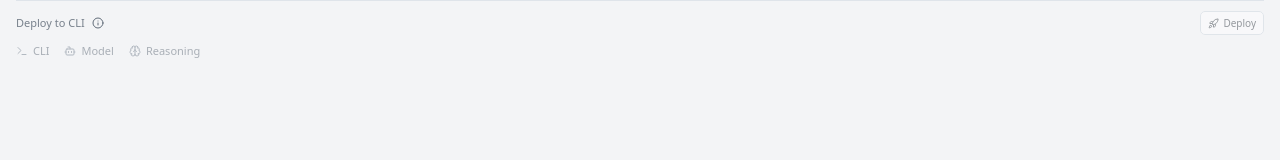
Test case: explains deployment on hover or focus without launching and dismisses on Escape
This screenshot has width=1280, height=160.
Hover over the button named "About CLI deployment" at (98, 23), box 89,14 -> 107,32
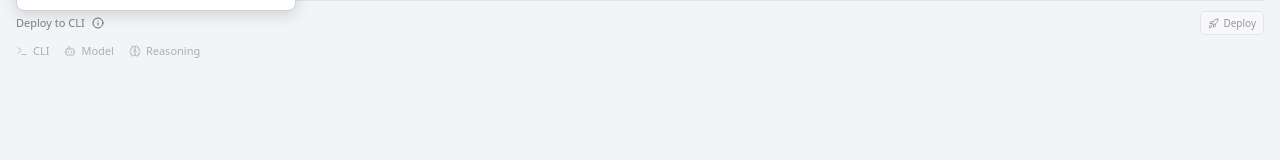
Move the pointer off the button named "About CLI deployment", box 89,14 -> 107,32
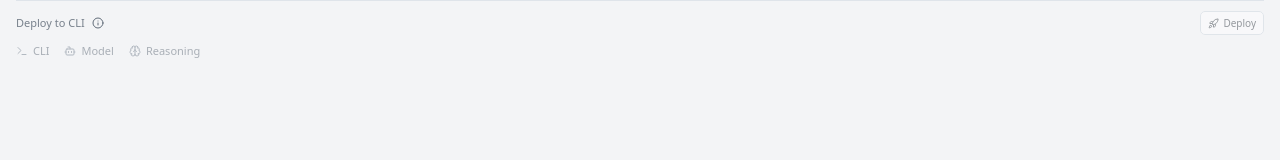
Focus the button named "About CLI deployment" at (98, 23), box 89,14 -> 107,32
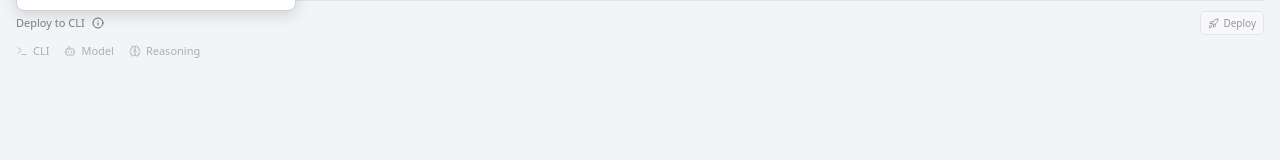
Press Escape in the button named "About CLI deployment", box 89,14 -> 107,32
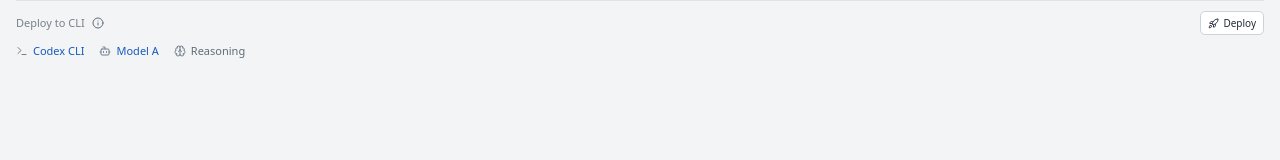
Expected: the button with aria-label "CLI: Codex CLI" is shown, 16,39 -> 90,63
